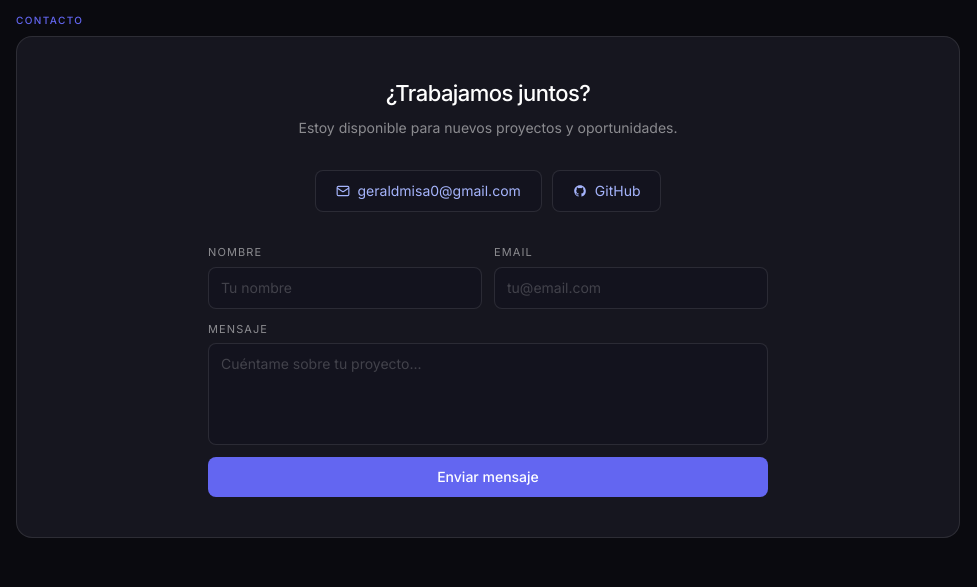
Scenario: Contact › envía el formulario correctamente y muestra mensaje de éxito
In the field with placeholder "Tu nombre": (345, 288) [208,266,482,308], type "Gerald Misa"
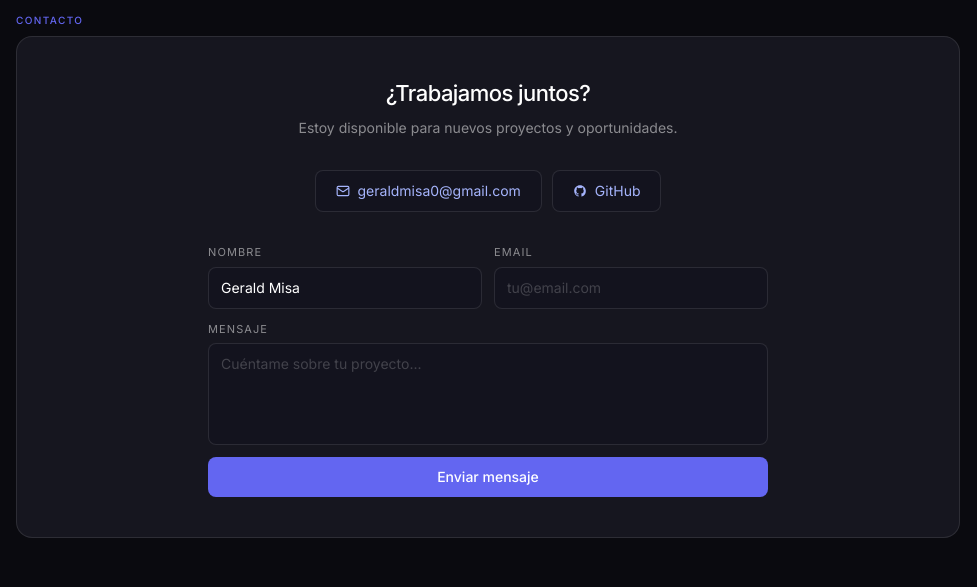
In the field with placeholder "tu@email.com": (631, 288) [494,266,768,308], type "gerald@test.com"
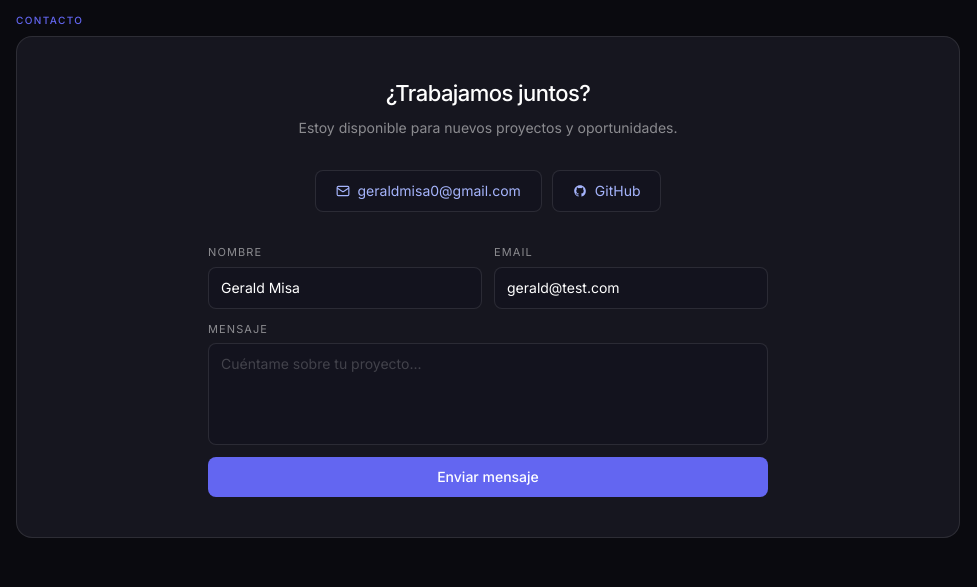
In the text box with placeholder "Cuéntame sobre tu proyecto...": (488, 394) [208,343,768,445], type "Hola, me interesa trabajar contigo en un proyecto."
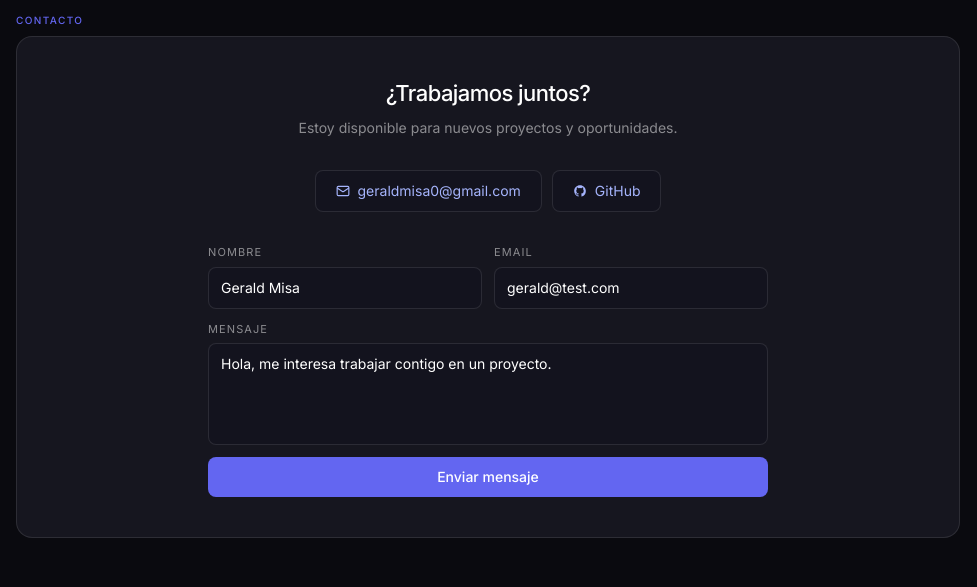
Click the button "Enviar mensaje": (488, 477) [208,457,768,497]
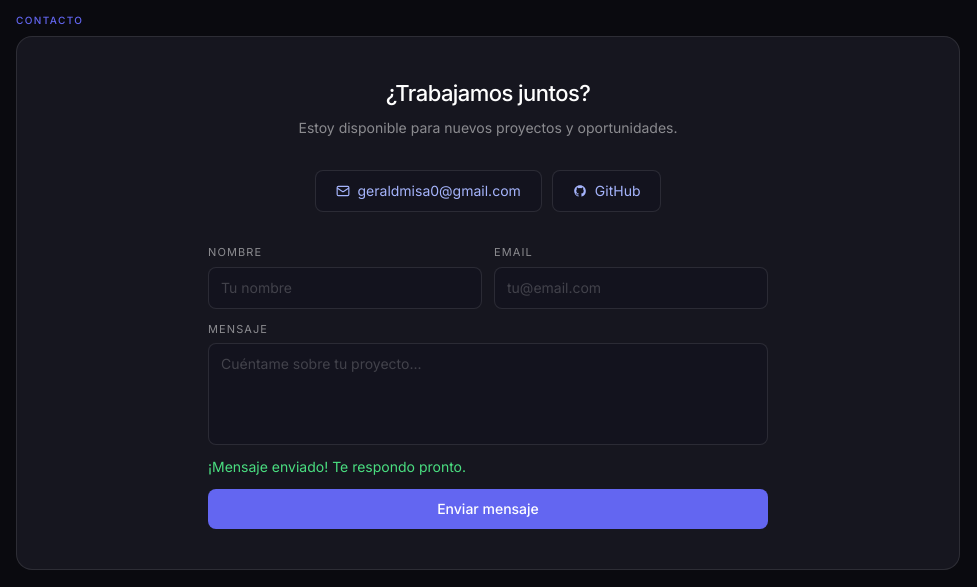
Expected: the text "¡Mensaje enviado! Te respondo pronto." is shown, [208,458,466,475]
